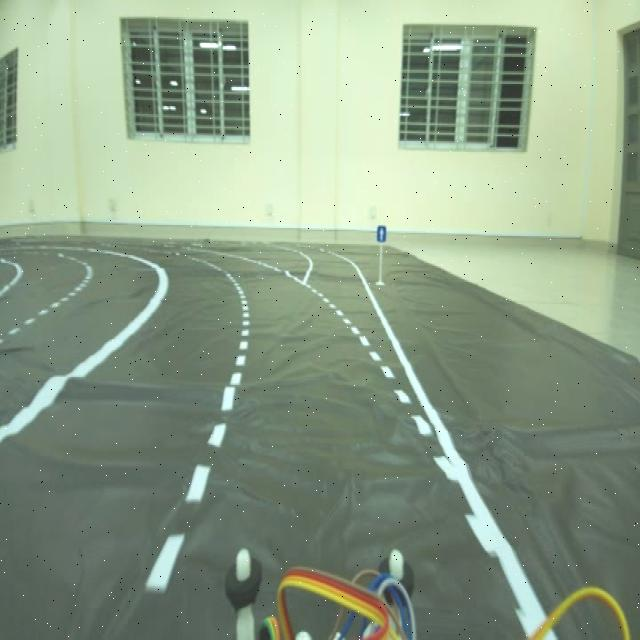onewayroad: (374, 214, 388, 247)
